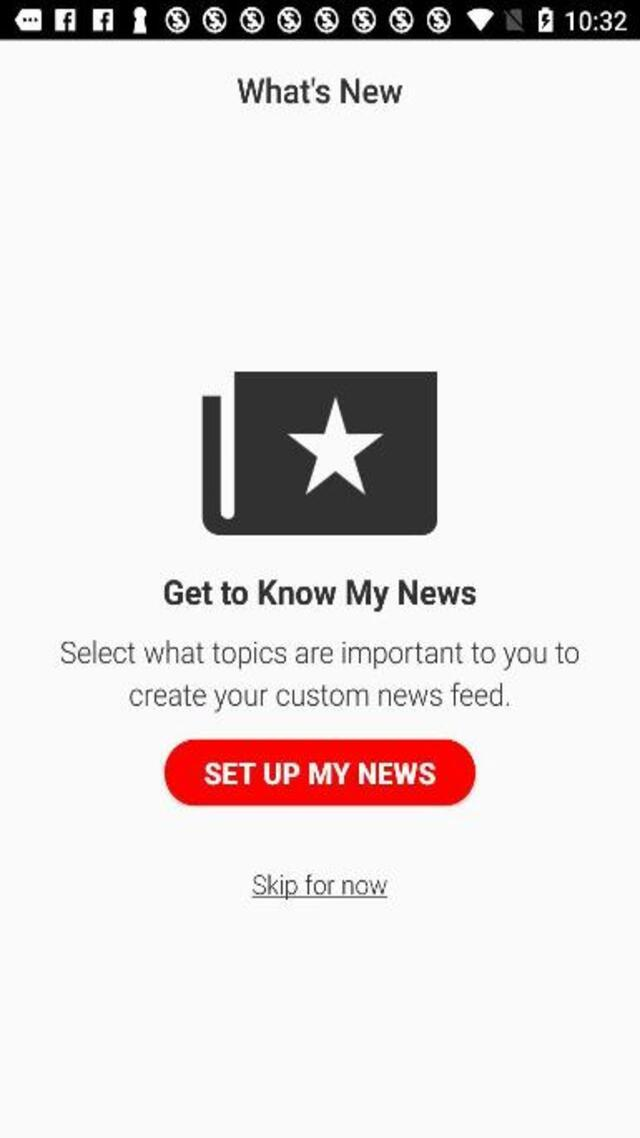Icon: (201, 372, 437, 536)
Text: (59, 639, 580, 671), (125, 678, 515, 715), (162, 580, 476, 612), (197, 757, 439, 789), (236, 77, 402, 104), (251, 874, 387, 901)
TextButton: (162, 738, 476, 806)
